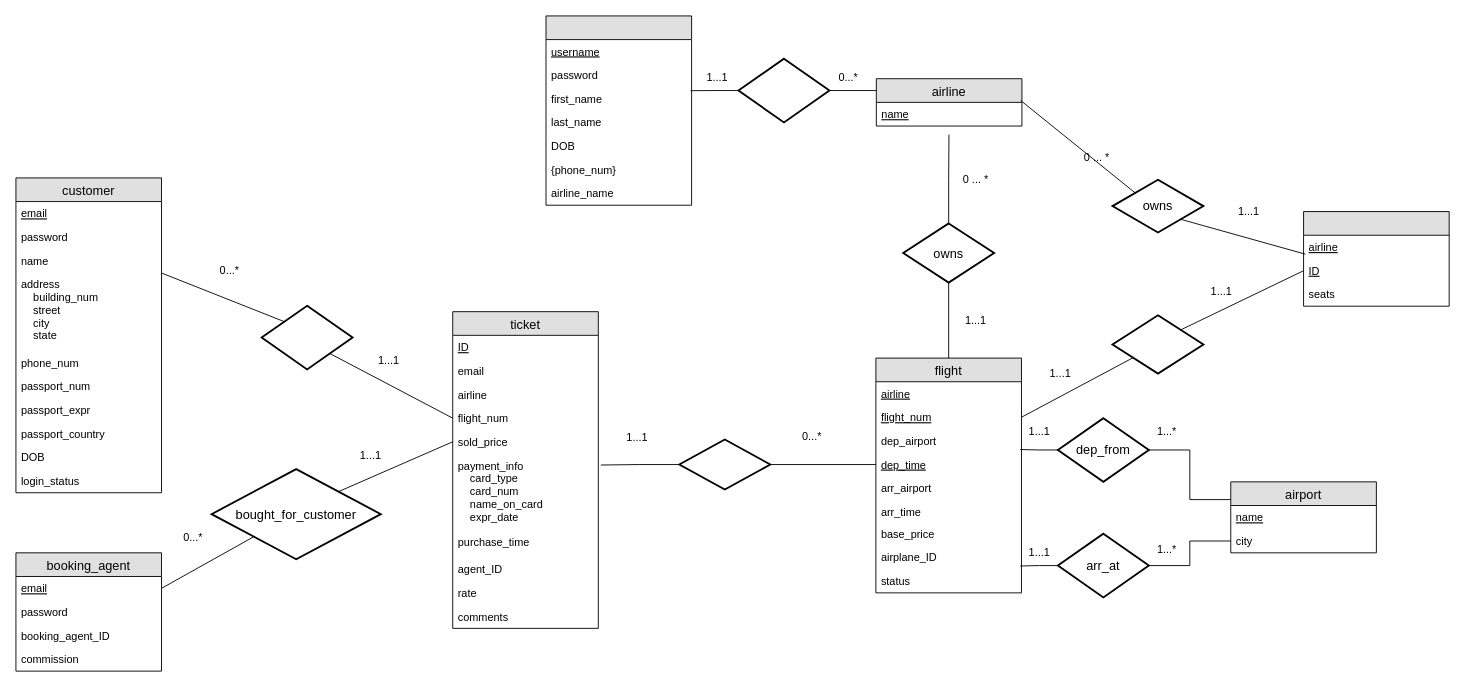
Image size: 1465x690. Some labels were removed from this diagram. The shapes that lost their labels are listed below. From the top down, each one's box as (x1, y1, x2, y2) in pixels, then its label:
(545, 15, 692, 205): airline_staff
(737, 57, 830, 123): works_for
(1303, 211, 1449, 306): airplane
(260, 304, 353, 370): bought
(1111, 314, 1204, 374): uses
(678, 438, 771, 490): of
